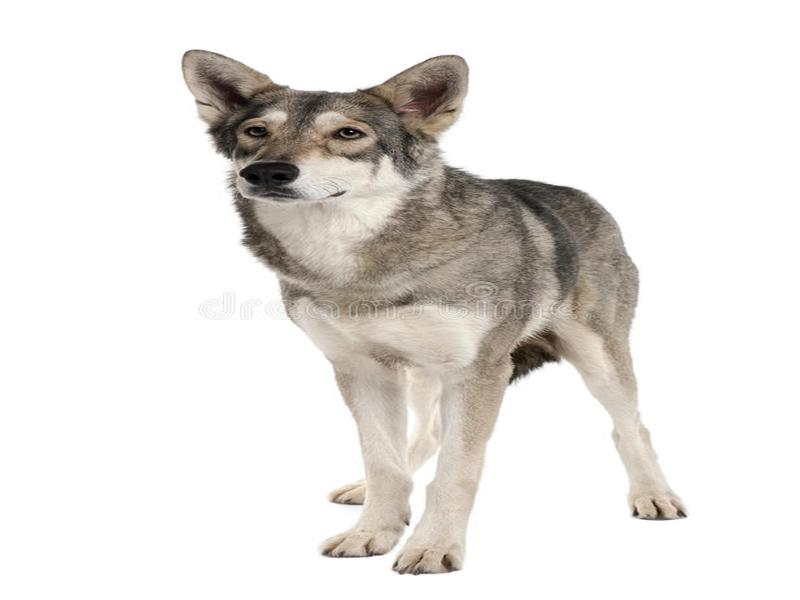dog_stand: (177, 42, 694, 584)
